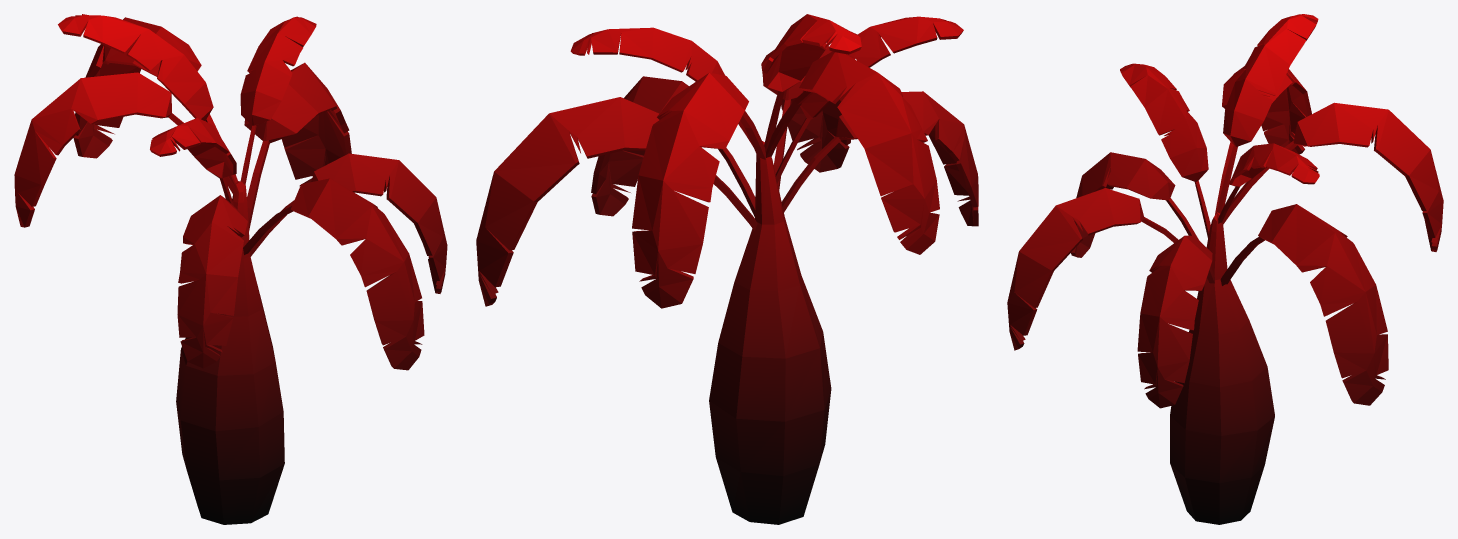
The model's file is TreePalmLarge04.fbx.
3 views of the same model, side by side, from view 1: azimuth 30°, elevation 25°; view 2: azimuth 150°, elevation 25°; view 3: azimuth 270°, elevation 25° (orthographic). The views are drawn at different scales.
Visible parts, largest first — view 1: TreePalmLarge04_LOD0; view 2: TreePalmLarge04_LOD0; view 3: TreePalmLarge04_LOD0.
Boxes of the visible parts, box(x1,y1,x2,y2) form: TreePalmLarge04_LOD0: box(14, 14, 447, 524); TreePalmLarge04_LOD0: box(476, 14, 978, 524); TreePalmLarge04_LOD0: box(1007, 14, 1443, 524).
Size of what is drawn, in the model's own units: 217 by 278 by 244.
